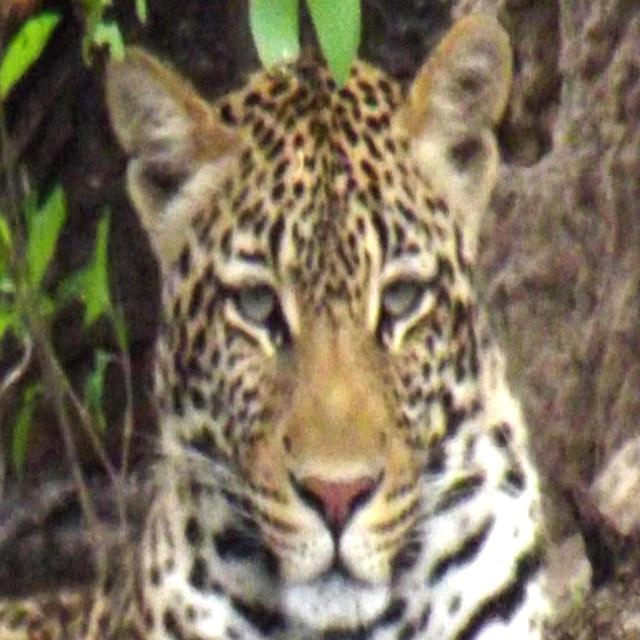Leopard: (5, 22, 602, 640)
